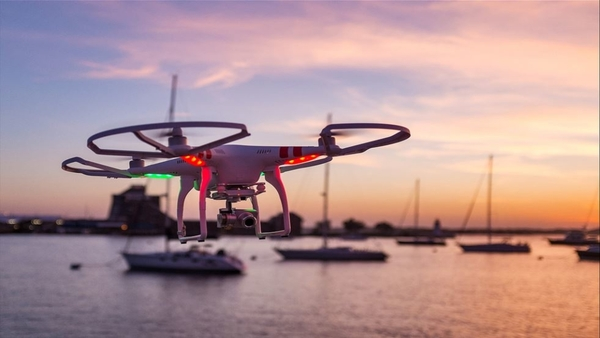drone: (60, 119, 414, 245)
